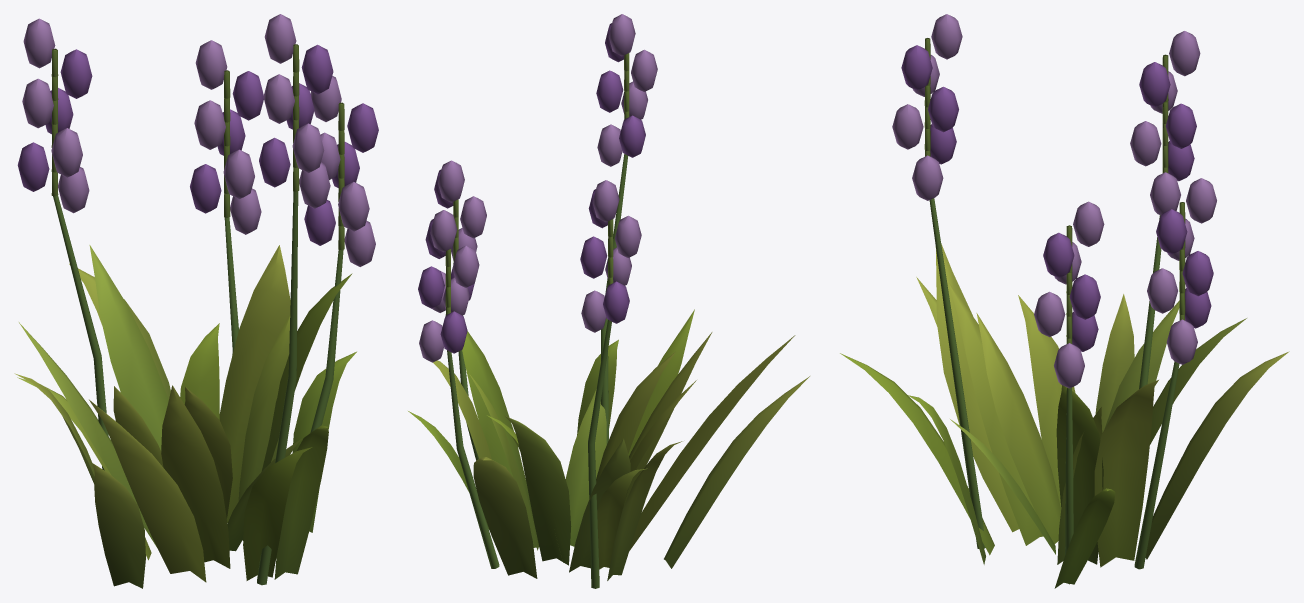
Rendered from grass_lavender.glb.
The picture shows the model from 3 angles, left to right: view 1: azimuth 30°, elevation 25°; view 2: azimuth 150°, elevation 25°; view 3: azimuth 270°, elevation 25°; orthographic projection. The views are drawn at different scales.
Parts seen in each view (by area): view 1: Plant; view 2: Plant; view 3: Plant.
Part boxes in pixels (x1,y1,x2,y2): Plant: [14, 14, 378, 588]; Plant: [408, 14, 809, 588]; Plant: [840, 14, 1289, 588].
Size of the model in its own units: 0.3726 by 0.5649 by 0.4306.
